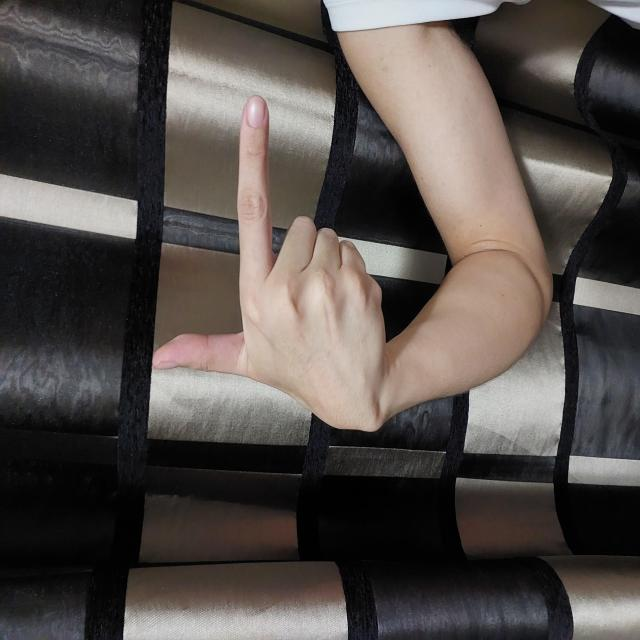G: (207, 150, 550, 388)
